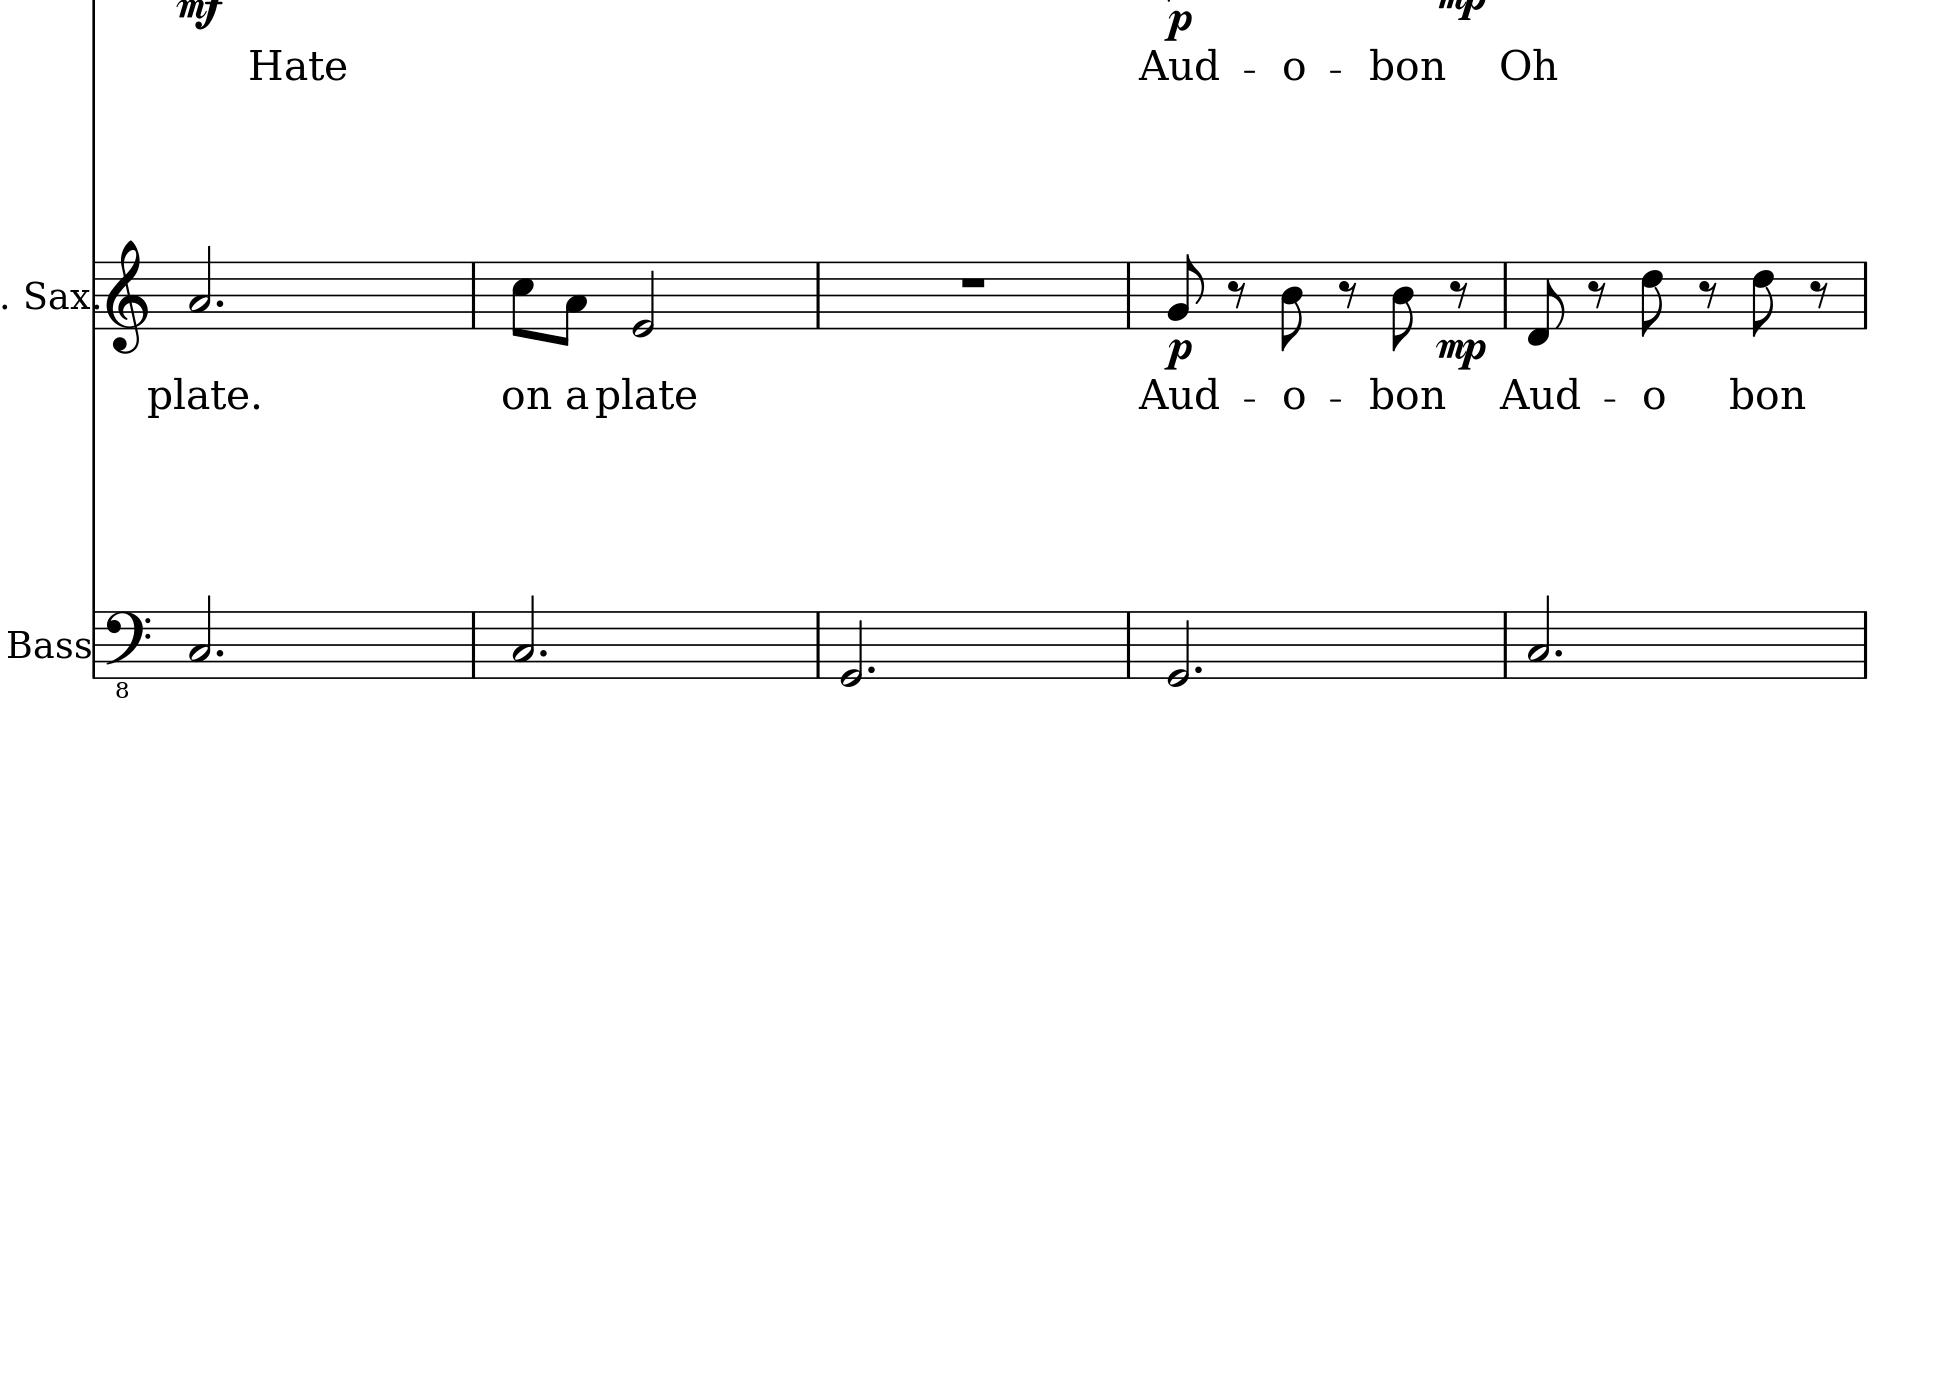2_0: (1165, 607, 1192, 688), (838, 609, 865, 688), (631, 258, 655, 339)
2_3: (189, 243, 213, 331), (187, 592, 211, 679), (511, 592, 535, 679), (1527, 594, 1551, 679)
8_-1: (1528, 259, 1566, 345)
8_2: (1167, 252, 1204, 330)
8_3: (553, 259, 588, 346)
8_4: (1389, 259, 1416, 352), (1279, 259, 1305, 352)
8_5: (508, 259, 535, 340)
8_6: (1752, 259, 1777, 337), (1641, 259, 1665, 339)
Bass: (4, 625, 91, 660)
Gclef: (105, 238, 150, 355)
Lower_Fclef: (100, 609, 151, 700)
Rests1: (957, 274, 990, 292)
Rests8: (1227, 277, 1249, 310), (1338, 277, 1360, 310), (1587, 277, 1609, 310), (1698, 277, 1720, 310), (1809, 277, 1831, 310), (1449, 277, 1470, 310)
Sax: (22, 277, 90, 313)
Single_barline: (463, 261, 483, 328), (1855, 610, 1875, 678), (1497, 261, 1515, 330), (1857, 261, 1875, 328), (1497, 610, 1515, 678), (1120, 261, 1137, 328), (810, 610, 826, 678), (1120, 610, 1137, 678), (810, 262, 826, 328), (465, 610, 481, 676), (88, 261, 103, 331), (88, 610, 102, 678)
dot: (864, 663, 877, 676), (1191, 663, 1204, 676), (213, 295, 225, 309), (537, 646, 549, 658), (1552, 646, 1564, 658), (214, 646, 225, 658)
mf: (178, 1, 222, 31)
mp: (1437, 336, 1488, 370)
p: (1161, 336, 1194, 370), (1164, 7, 1194, 42)
